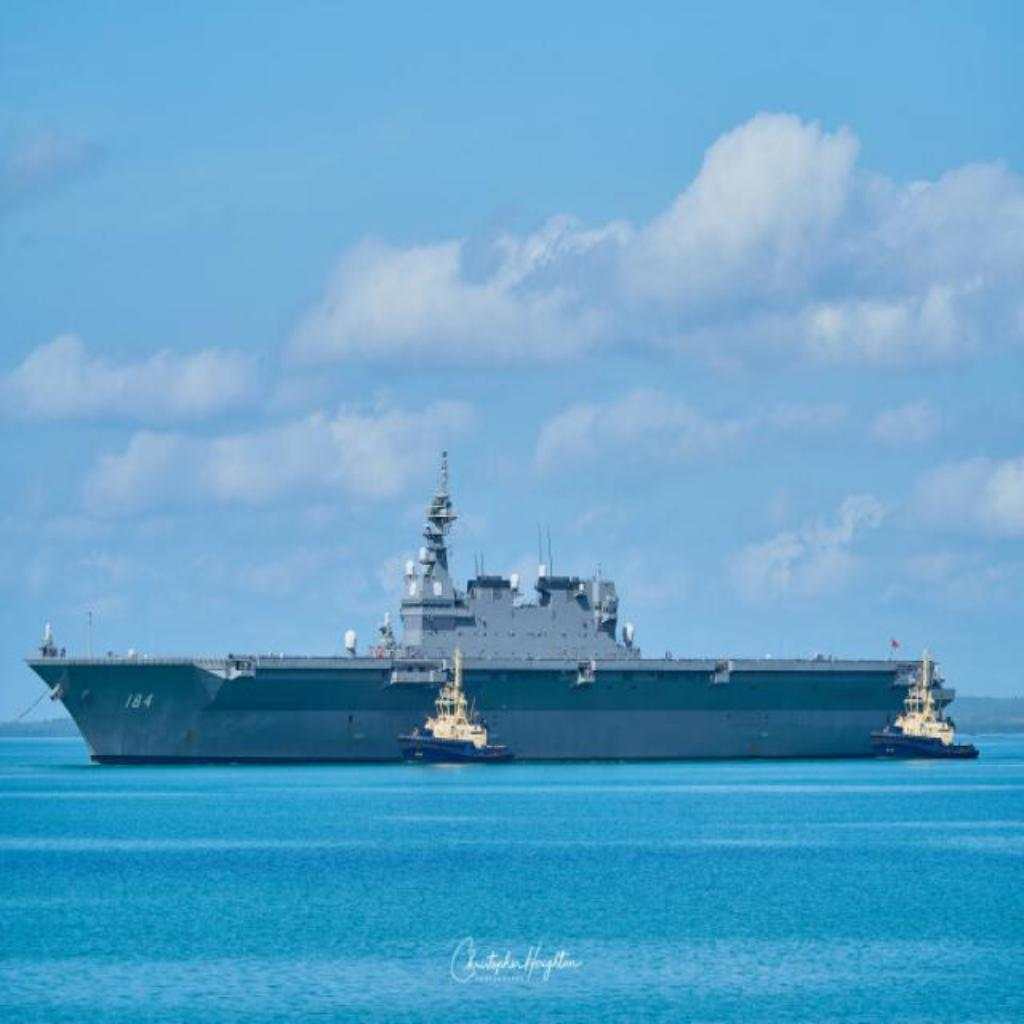Warship: (22, 447, 938, 765)
